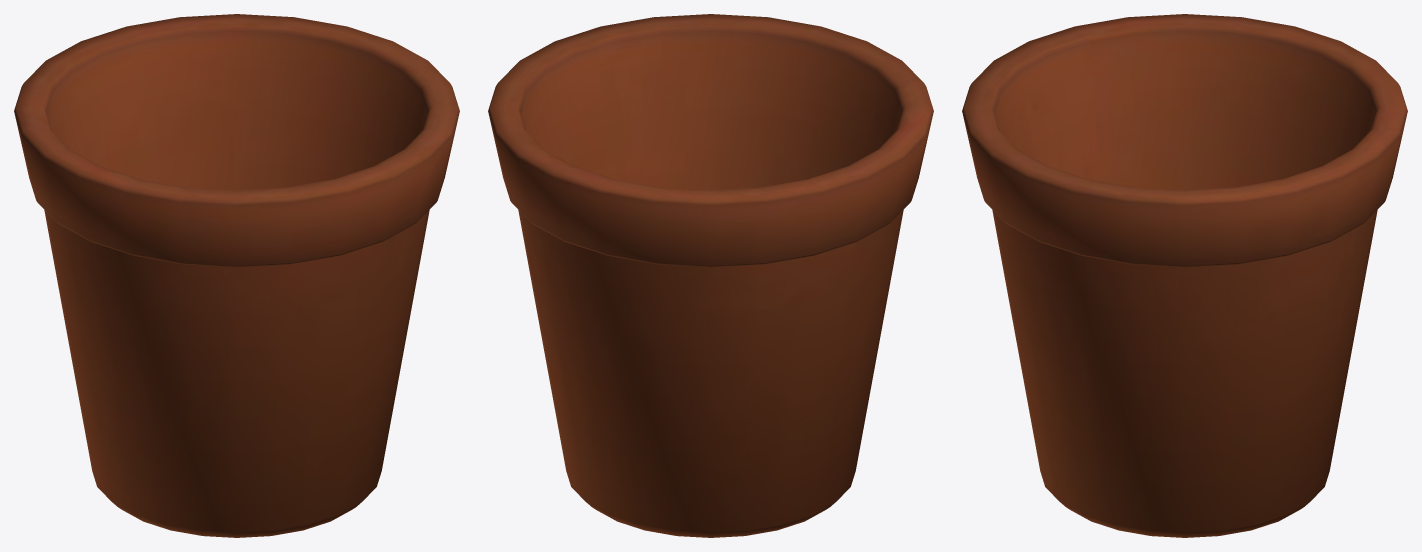
The model's file is terracotta.glb.
The picture shows the model from 3 angles, left to right: view 1: azimuth 30°, elevation 25°; view 2: azimuth 150°, elevation 25°; view 3: azimuth 270°, elevation 25°; orthographic projection.
Visible parts, largest first — view 1: defaultMaterial; view 2: defaultMaterial; view 3: defaultMaterial.
Part boxes in pixels (x1=…): defaultMaterial: x1=14, y1=14, x2=459, y2=537; defaultMaterial: x1=488, y1=14, x2=933, y2=537; defaultMaterial: x1=962, y1=14, x2=1407, y2=537.
Size of the model in its own units: 18.2 by 16.93 by 18.2.
Materials: 1 (1 with a texture image).
